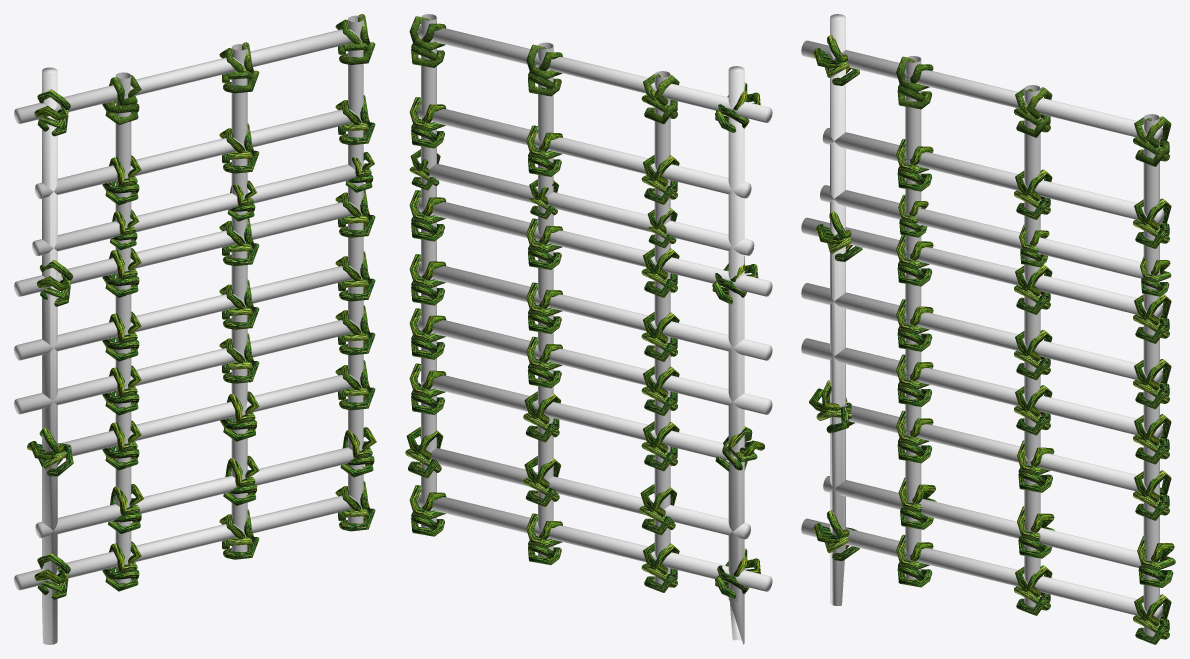
File: kapi.fbx
The picture shows the model from 3 angles, left to right: view 1: azimuth 30°, elevation 25°; view 2: azimuth 150°, elevation 25°; view 3: azimuth 330°, elevation 25°; orthographic projection. The views are drawn at different scales.
Parts seen in each view (by area): view 1: kapilicit; view 2: kapilicit; view 3: kapilicit.
Part boxes in pixels (<box>): kapilicit: <box>14,14,376,644</box>; kapilicit: <box>405,14,772,644</box>; kapilicit: <box>801,14,1175,644</box>.
Bounding box in the file's own units: 306 × 469 × 36.54.
